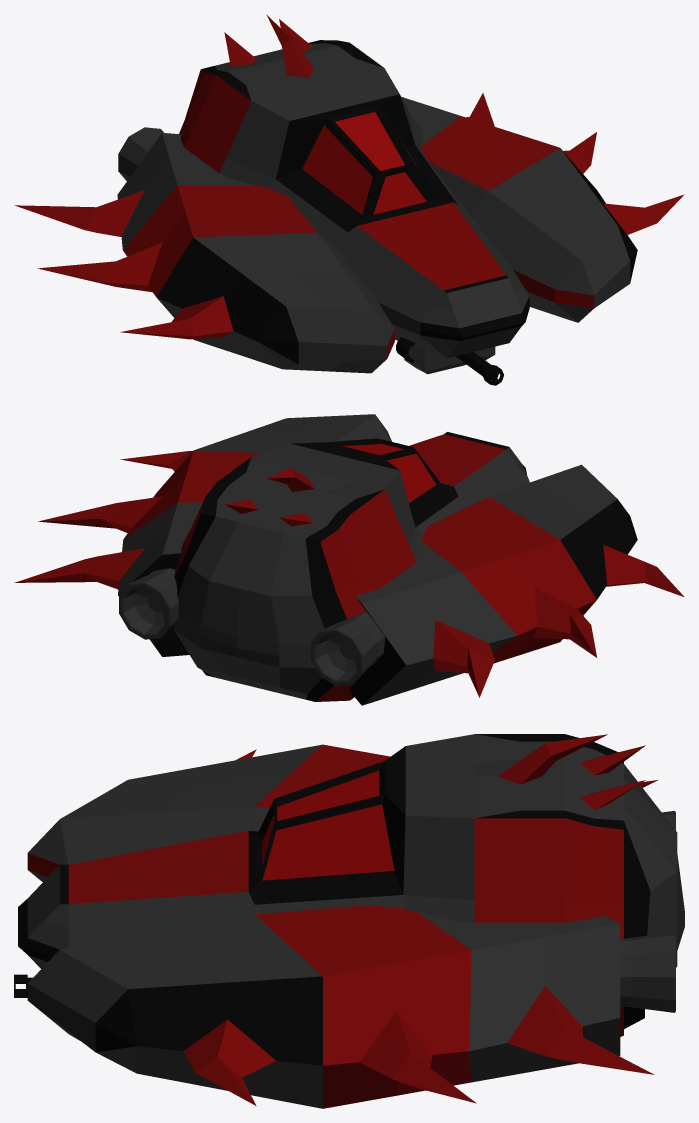
Rendered from enemysmallship (1) 1.fbx.
3 views of the same model, one above another, from view 1: azimuth 30°, elevation 25°; view 2: azimuth 150°, elevation 25°; view 3: azimuth 270°, elevation 25° (orthographic). The views are drawn at different scales.
Parts seen in each view (by area): view 1: enemyshipsmall; view 2: enemyshipsmall; view 3: enemyshipsmall.
Boxes of the visible parts, x1=… form: enemyshipsmall: x1=14, y1=14, x2=684, y2=385; enemyshipsmall: x1=14, y1=414, x2=684, y2=705; enemyshipsmall: x1=14, y1=734, x2=684, y2=1108.
Size of the model in its own units: 9.07 by 3.35 by 7.2.
